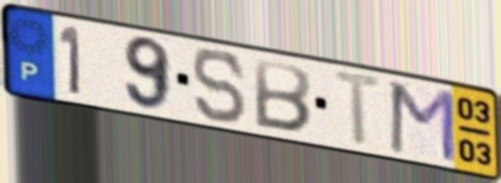1: (56, 24, 84, 100)
9: (120, 34, 175, 115)
B: (251, 55, 315, 136)
M: (386, 79, 458, 166)
S: (190, 47, 250, 126)
T: (331, 67, 389, 150)
